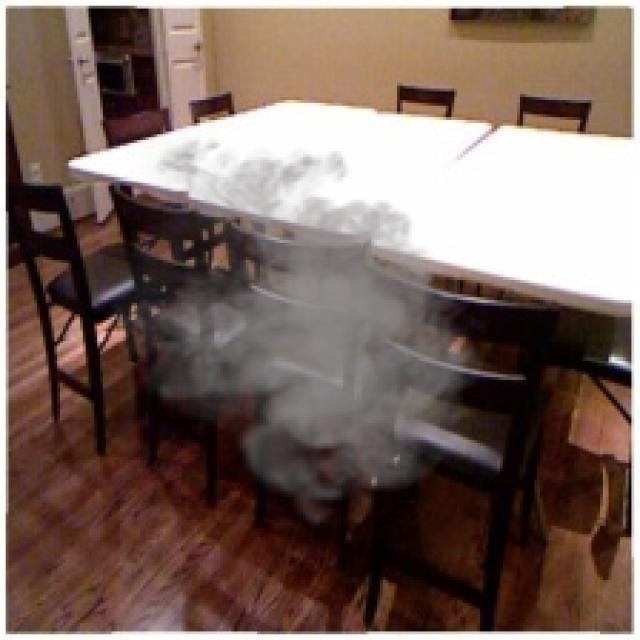Smoke: (89, 126, 498, 528)
